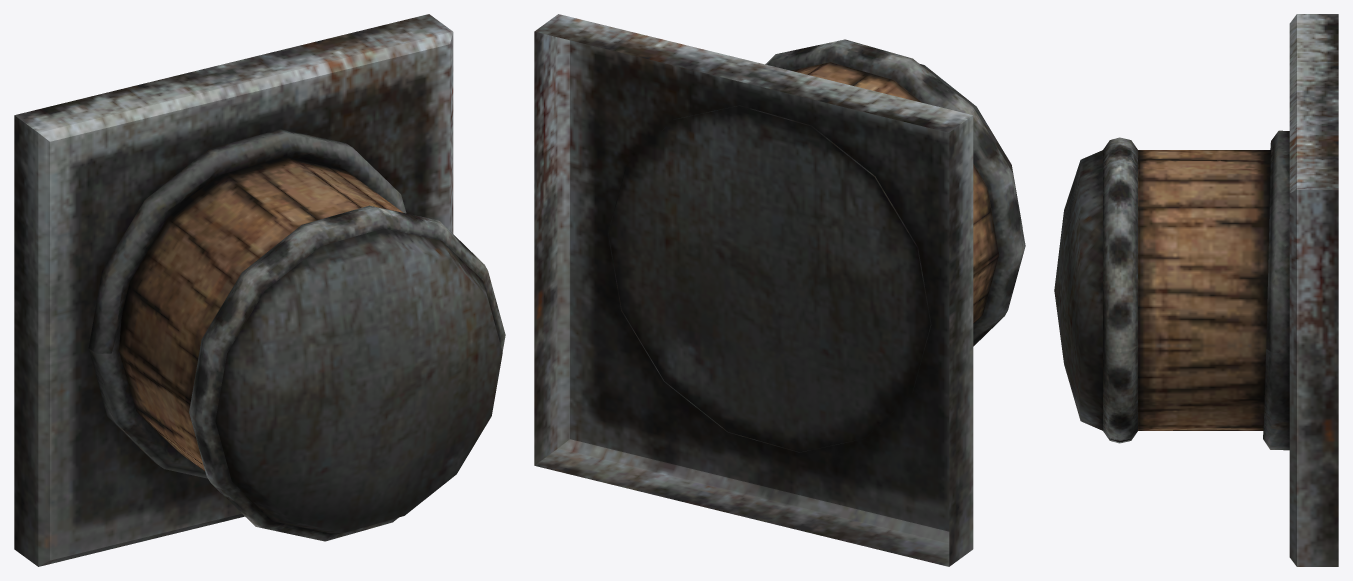
File: button_simple.dae
3 renders of one model, left to right at view 1: azimuth 30°, elevation 25°; view 2: azimuth 150°, elevation 25°; view 3: azimuth 270°, elevation 25°, orthographic. The views are drawn at different scales.
Parts seen in each view (by area): view 1: button_simple_knob, button_simple_base; view 2: button_simple_base, button_simple_knob; view 3: button_simple_knob, button_simple_base.
Part boxes in pixels (x1,y1,x2,y2): button_simple_knob: [119, 156, 505, 541]; button_simple_base: [14, 14, 453, 566]; button_simple_base: [534, 14, 973, 566]; button_simple_knob: [765, 39, 1025, 346]; button_simple_knob: [1054, 137, 1270, 443]; button_simple_base: [1263, 14, 1338, 566].
Size of the model in its own units: 0.4 by 0.4 by 0.2733.
